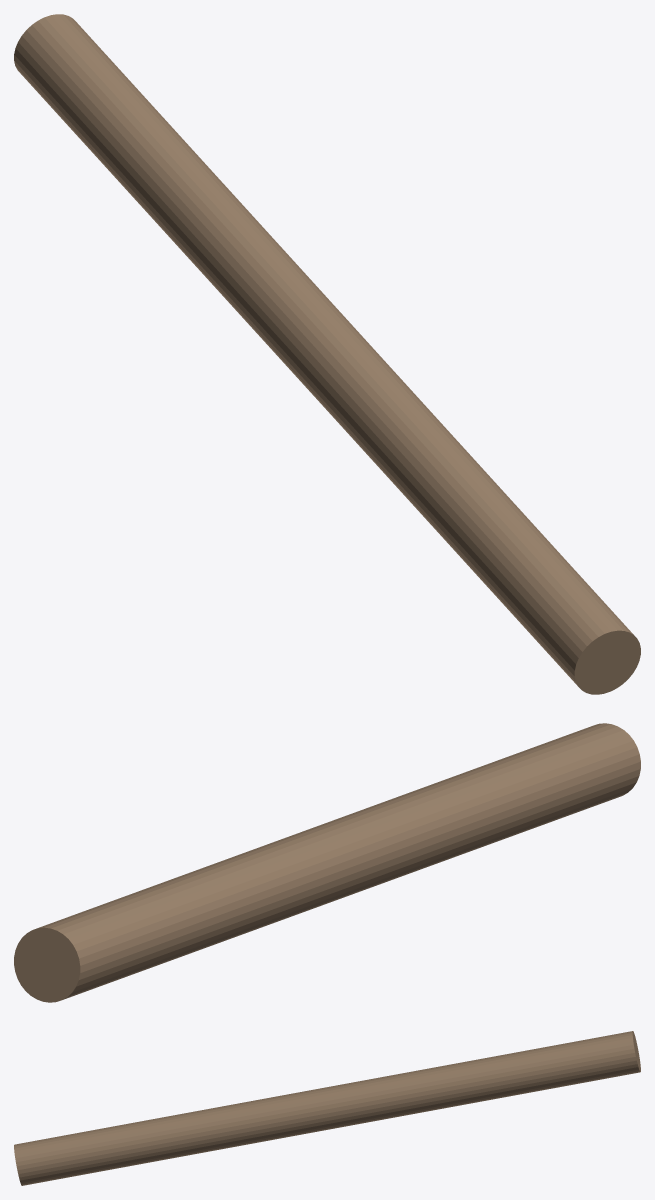
The model's file is coconut_palm_variation.glb.
3 renders of one model, top to bottom at view 1: azimuth 30°, elevation 25°; view 2: azimuth 150°, elevation 25°; view 3: azimuth 270°, elevation 25°, orthographic. The views are drawn at different scales.
Visible parts, largest first — view 1: geometry_0; view 2: geometry_0; view 3: geometry_0.
Part boxes in pixels (box(x1,y1,x2,y2)): geometry_0: box(14, 14, 640, 694); geometry_0: box(14, 723, 640, 1002); geometry_0: box(14, 1031, 640, 1185).
Size of the model in its own units: 0.4 by 1.58 by 5.96.
